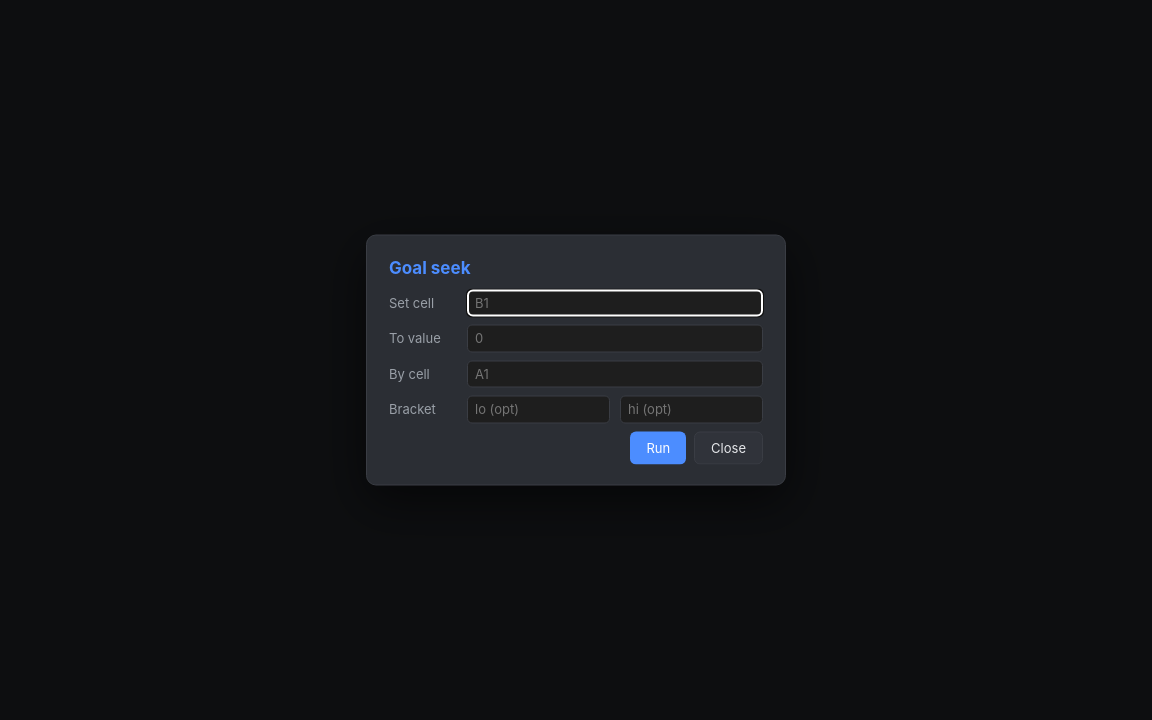
Scenario: requires the three cells before running
Click the button "Run" at coordinates (658, 448), box 630,431 -> 686,464
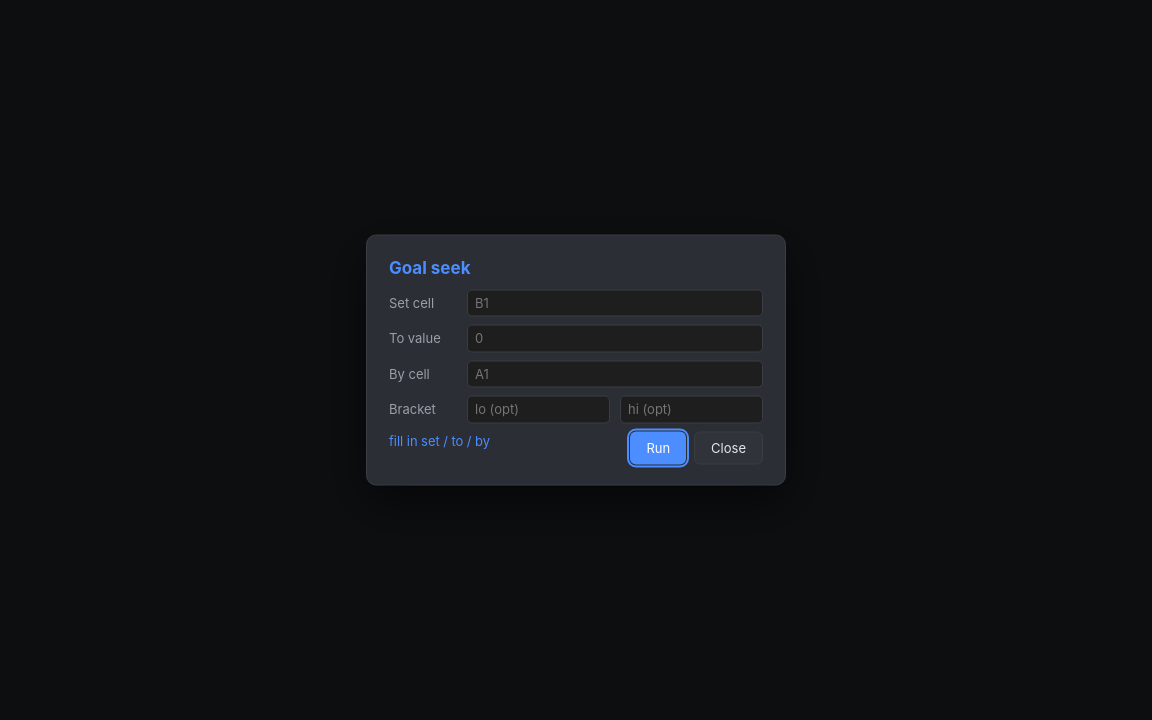
Result: the text "fill in set / to / by" is shown at 389,432 -> 490,448
